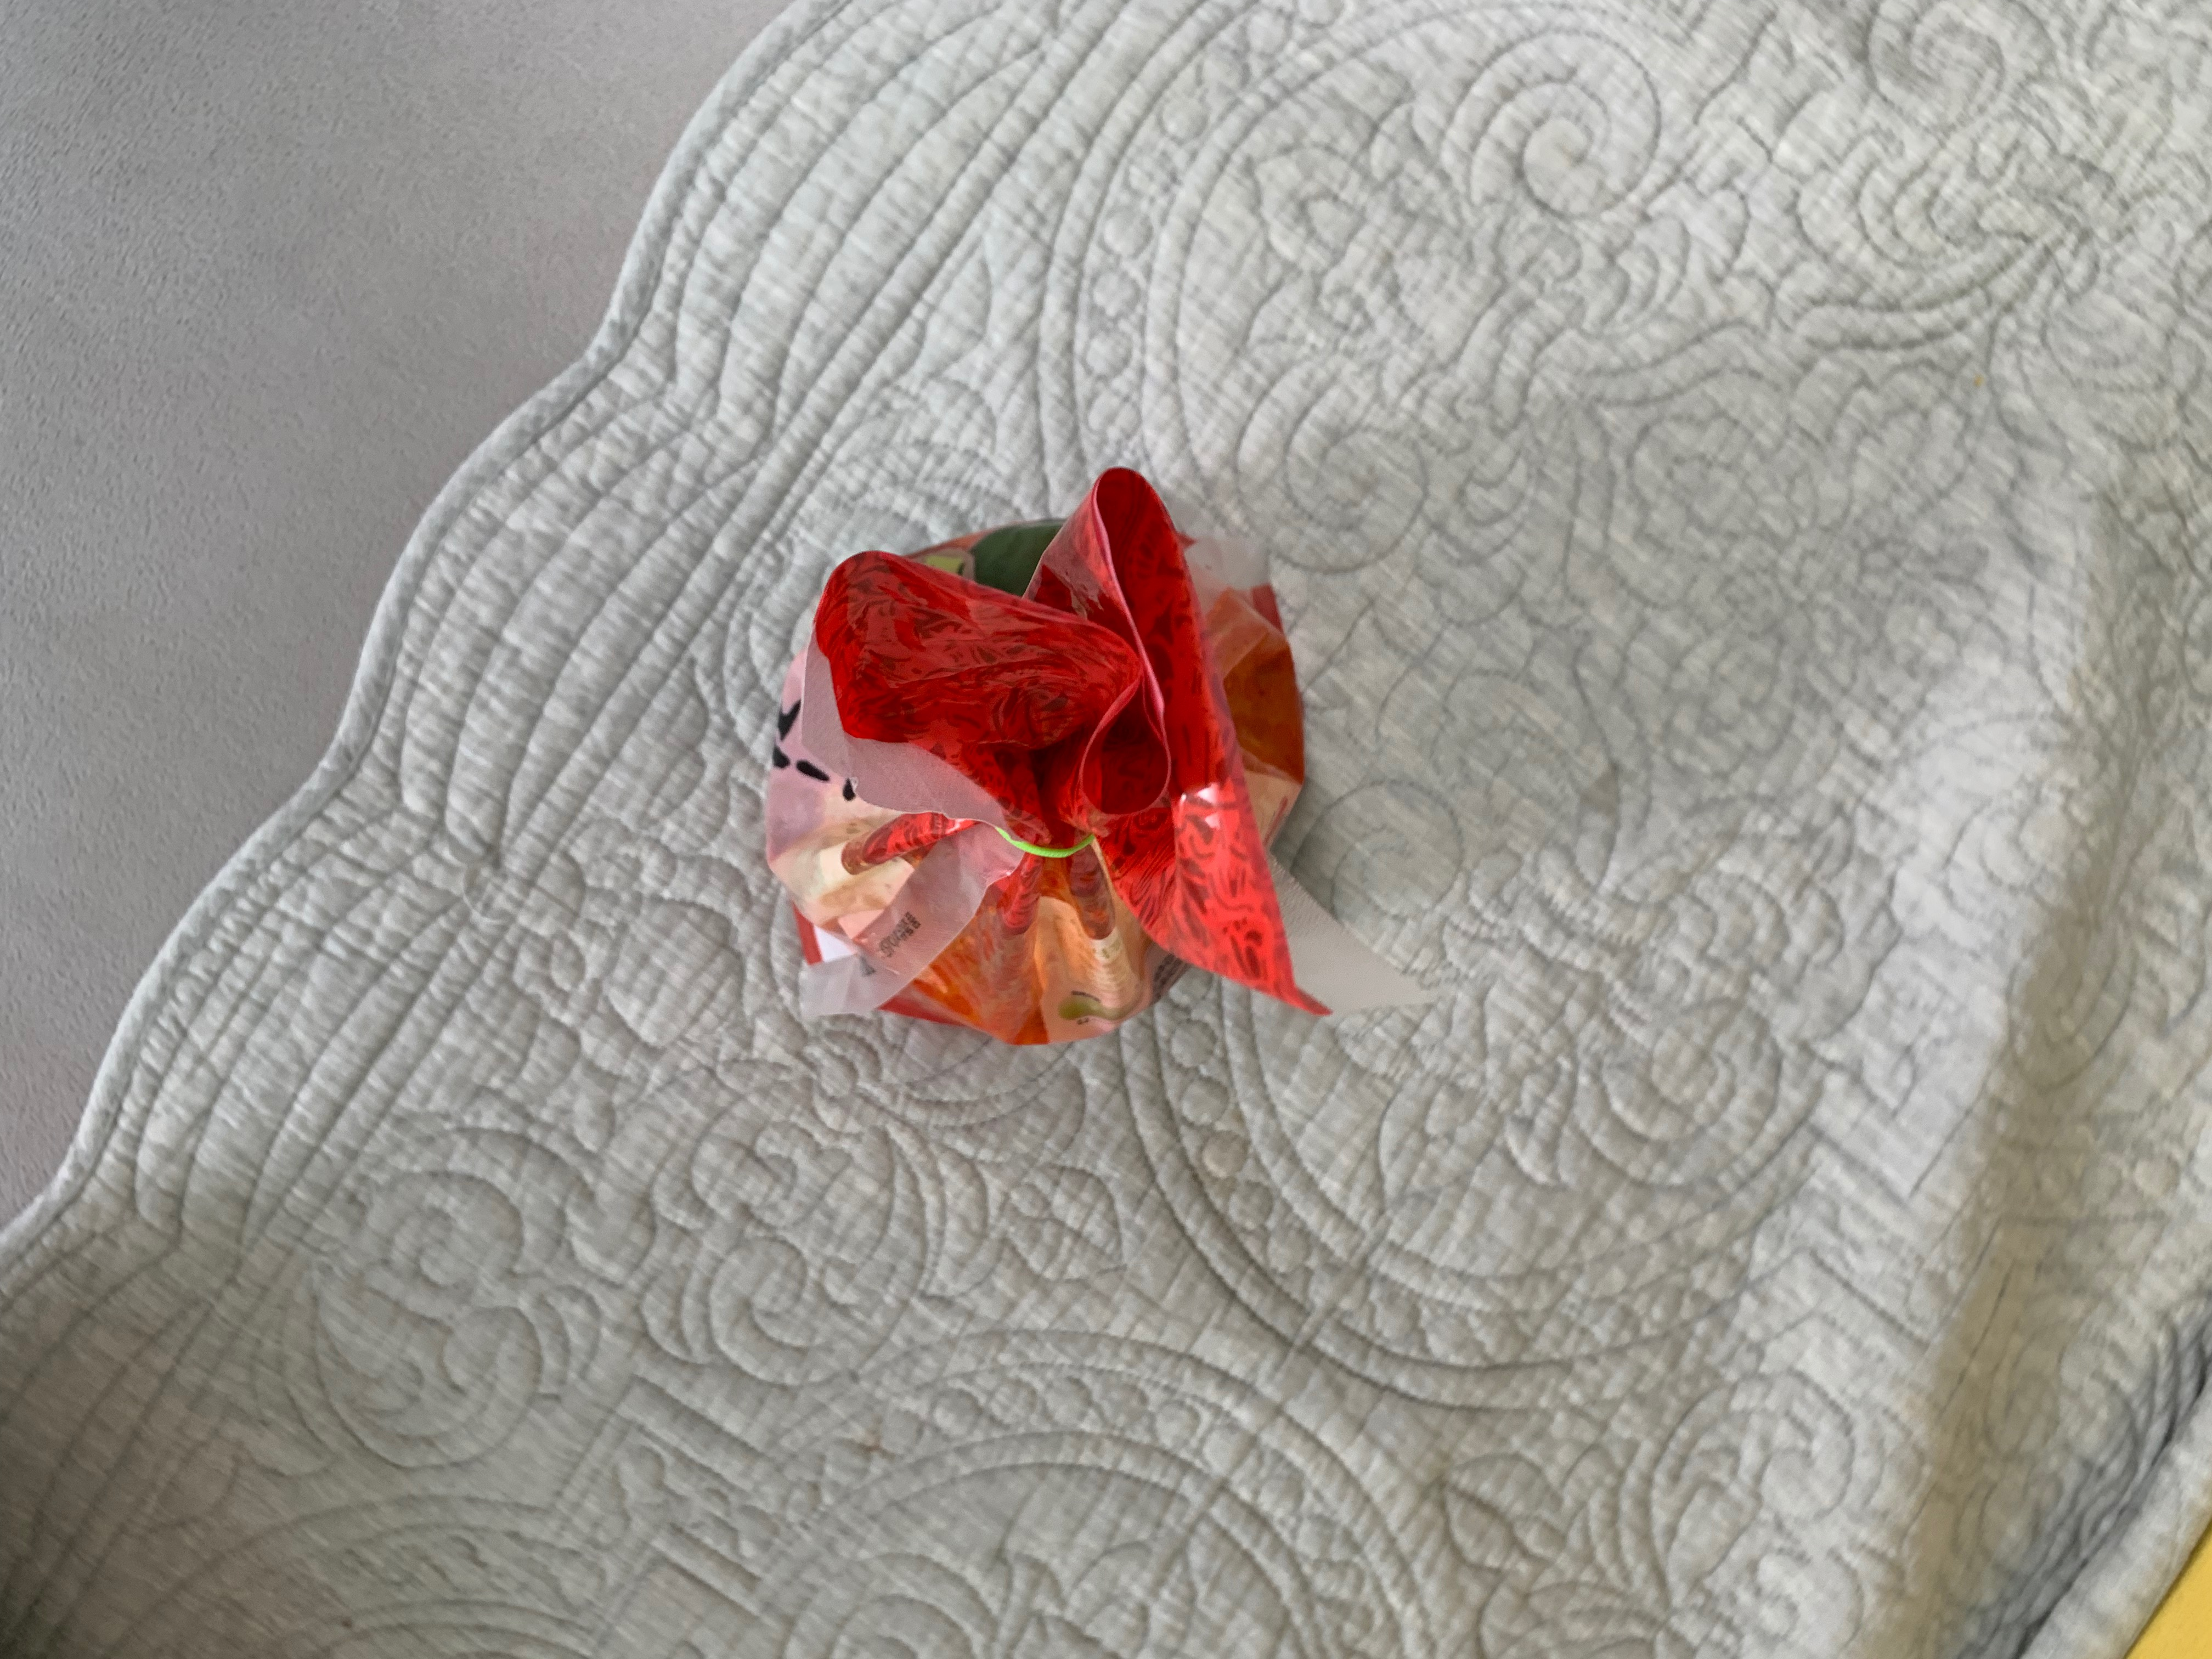kimchi: (763, 472, 1334, 1047)
